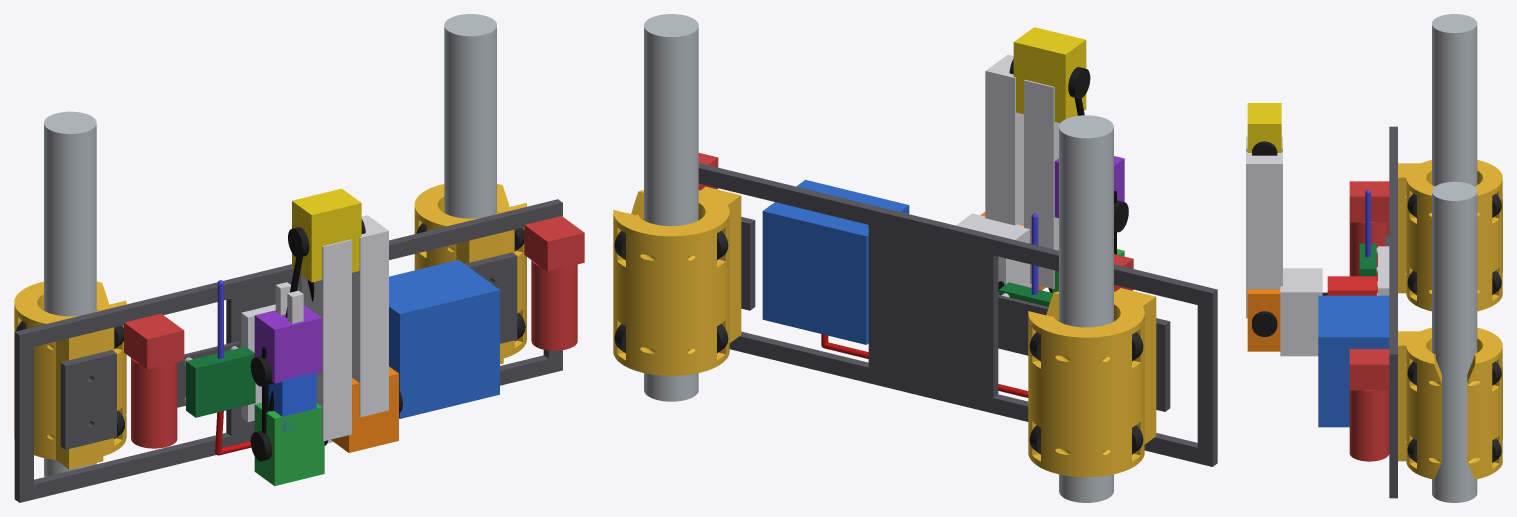
The model's file is cart-arm-stowed-v2.glb.
3 renders of one model, left to right at view 1: azimuth 30°, elevation 25°; view 2: azimuth 150°, elevation 25°; view 3: azimuth 270°, elevation 25°, orthographic. The views are drawn at different scales.
Parts seen in each view (by area): view 1: base_plate, battery, drive_motors, track_pipe_B, track_pipe_C, hand_on_pipe_B_sleeve, arm_stowed_forearm, arm_stowed_upper_arm, hand_on_pipe_C_sleeve, arm_stowed_servo_D_wrist_flex, arm_stowed_servo_C_elbow, arm_stowed_servo_F_gripper (+6 smaller); view 2: base_plate, hand_on_pipe_C_sleeve, hand_on_pipe_B_sleeve, battery, track_pipe_C, track_pipe_B, arm_stowed_upper_arm, arm_stowed_forearm, arm_stowed_servo_C_elbow, board_bracket_tab, arm_stowed_shoulder_bracket, hand_on_pipe_B_wheels (+4 smaller); view 3: track_pipe_C, hand_on_pipe_C_sleeve, hand_on_pipe_B_sleeve, track_pipe_B, drive_motors, battery, arm_stowed_upper_arm, arm_stowed_shoulder_bracket, base_plate, arm_stowed_servo_B_shoulder, arm_stowed_servo_C_elbow, arm_stowed_servo_A_base (+7 smaller).
Boxes of the visible parts, x1=… form: base_plate: x1=14, y1=199, x2=562, y2=502; battery: x1=389, y1=259, x2=499, y2=418; drive_motors: x1=124, y1=216, x2=584, y2=448; track_pipe_B: x1=44, y1=111, x2=96, y2=476; track_pipe_C: x1=444, y1=14, x2=496, y2=218; hand_on_pipe_B_sleeve: x1=14, y1=281, x2=126, y2=469; arm_stowed_forearm: x1=301, y1=239, x2=351, y2=441; arm_stowed_upper_arm: x1=352, y1=215, x2=388, y2=417; hand_on_pipe_C_sleeve: x1=414, y1=184, x2=526, y2=364; arm_stowed_servo_D_wrist_flex: x1=254, y1=402, x2=324, y2=485; arm_stowed_servo_C_elbow: x1=292, y1=188, x2=361, y2=282; arm_stowed_servo_F_gripper: x1=254, y1=305, x2=322, y2=383; base_plate: x1=698, y1=163, x2=1217, y2=466; hand_on_pipe_C_sleeve: x1=613, y1=186, x2=741, y2=375; hand_on_pipe_B_sleeve: x1=1028, y1=288, x2=1156, y2=477; battery: x1=762, y1=180, x2=909, y2=344; track_pipe_C: x1=644, y1=14, x2=698, y2=401; track_pipe_B: x1=1059, y1=115, x2=1113, y2=502; arm_stowed_upper_arm: x1=985, y1=54, x2=1023, y2=225; arm_stowed_forearm: x1=1024, y1=80, x2=1059, y2=288; arm_stowed_servo_C_elbow: x1=1013, y1=27, x2=1086, y2=123; board_bracket_tab: x1=998, y1=295, x2=1048, y2=355; arm_stowed_shoulder_bracket: x1=956, y1=213, x2=1031, y2=294; hand_on_pipe_B_wheels: x1=1029, y1=332, x2=1143, y2=454; track_pipe_C: x1=1432, y1=181, x2=1477, y2=502; hand_on_pipe_C_sleeve: x1=1398, y1=327, x2=1502, y2=479; hand_on_pipe_B_sleeve: x1=1398, y1=160, x2=1502, y2=311; track_pipe_B: x1=1432, y1=14, x2=1477, y2=186; drive_motors: x1=1349, y1=181, x2=1389, y2=461; battery: x1=1318, y1=295, x2=1389, y2=427; arm_stowed_upper_arm: x1=1246, y1=152, x2=1282, y2=318; arm_stowed_shoulder_bracket: x1=1280, y1=268, x2=1322, y2=356; base_plate: x1=1389, y1=126, x2=1397, y2=498; arm_stowed_servo_B_shoulder: x1=1247, y1=289, x2=1280, y2=351; arm_stowed_servo_C_elbow: x1=1247, y1=103, x2=1281, y2=152; arm_stowed_servo_A_base: x1=1327, y1=276, x2=1377, y2=295.
Size of the model in its own units: 380 by 235 by 181.
